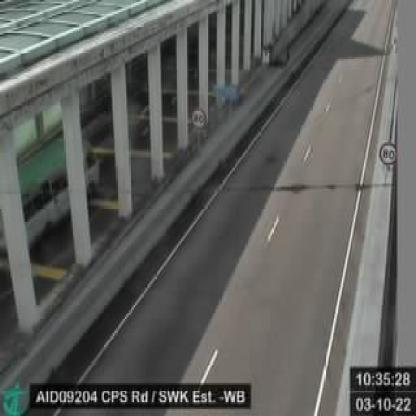Minibus: (0, 130, 101, 268)
